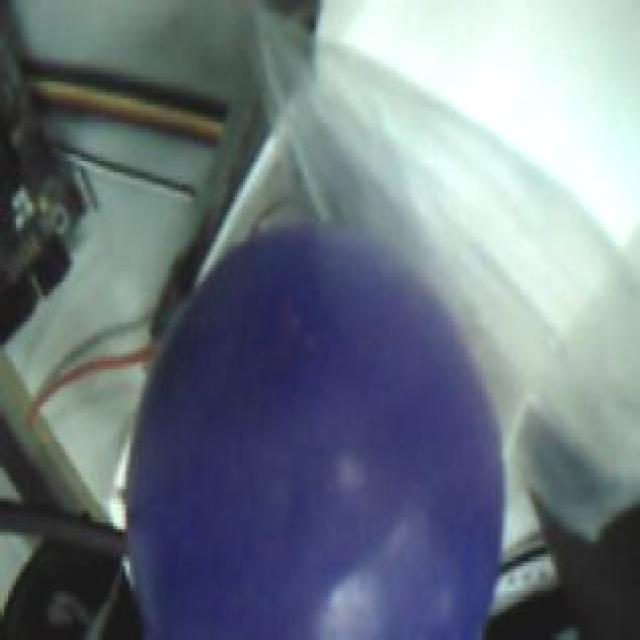BallPurple: (128, 225, 504, 640)
